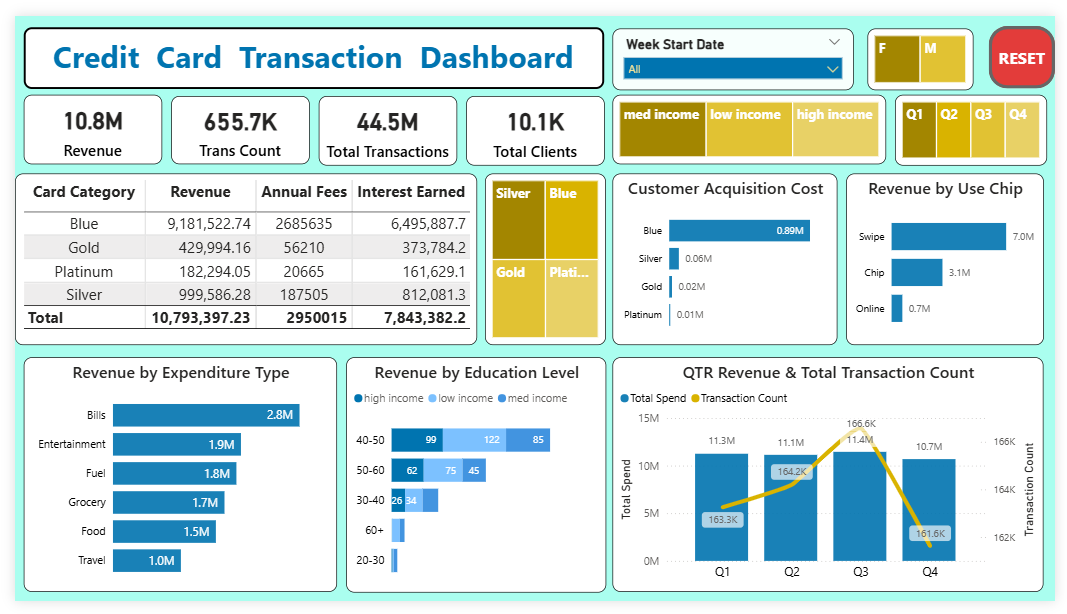

What the dashboard file says about the page in this screenshot:
{"tool":"powerbi","page":{"name":"CC Transacations","canvas":[1280,720],"ordinal":0},"visuals":[{"type":"textbox","box":[11.4,14.3,714.3,75.7],"z":0},{"type":"lineStackedColumnComboChart","title":"QTR Revenue & Total Transaction Count","fields":{"Category":["credit_card.Qtr"],"Y":["Sum(credit_card.Total_Trans_Amt)"],"Y2":["Sum(credit_card.Total_Trans_Vol)"]},"box":[735.7,420,530,288.6],"z":1000},{"type":"clusteredBarChart","title":"Revenue by Expenditure Type","fields":{"Y":["Sum(credit_card.rev)"],"Category":["credit_card.Exp Type"]},"box":[11.4,420,385.7,288.6],"z":2000},{"type":"barChart","title":"Revenue by Education Level","fields":{"Category":["customer.Age_Group"],"Y":["Sum(credit_card.Delinquent_Acc)"],"Series":["customer.Income_Group"]},"box":[407.7,420,320,289.2],"z":3000},{"type":"clusteredBarChart","title":"Revenue by Use Chip","fields":{"Y":["Sum(credit_card.rev)"],"Category":["credit_card.Use Chip"]},"box":[1022.9,194.3,242.9,211.4],"z":4000},{"type":"card","fields":{"Values":["Count(credit_card.Client_Num)"]},"box":[555.7,98.6,170,85.7],"z":5000},{"type":"card","fields":{"Values":["Sum(credit_card.Total_Trans_Vol)"]},"box":[192.9,98.6,170,84.3],"z":6000},{"type":"card","fields":{"Values":["Sum(credit_card.Total_Trans_Amt)"]},"box":[374.3,98.6,170,85.7],"z":7000},{"type":"card","fields":{"Values":["Sum(credit_card.rev)"]},"box":[11.4,97.1,170,85.7],"z":8000},{"type":"tableEx","fields":{"Values":["credit_card.Card_Category","Sum(credit_card.rev)","Sum(credit_card.Annual_Fees)","Sum(credit_card.Interest_Earned)"]},"box":[0,193.8,569.1,211.1],"z":9000},{"type":"treemap","fields":{"Group":["credit_card.Qtr"],"Values":["Count(credit_card.Qtr)"]},"box":[1082.9,97.1,187.1,87.1],"z":10000},{"type":"treemap","fields":{"Group":["customer.Gender"],"Values":["Avg(credit_card.Client_Num)"]},"box":[1048.6,15.7,130,75.7],"z":11000},{"type":"barChart","title":"Customer Acquisition Cost","fields":{"Y":["Sum(credit_card.Customer_Acq_Cost)"],"Category":["credit_card.Card_Category"]},"box":[735.7,194.3,277.1,211.4],"z":12000},{"type":"treemap","fields":{"Values":["Avg(credit_card.Client_Num)"],"Group":["credit_card.Card_Category"]},"box":[578.6,194.3,148.6,211.4],"z":13000},{"type":"slicer","fields":{"Values":["credit_card.Week_Start_Date"]},"box":[735.7,15.7,297.1,75.7],"z":14000},{"type":"treemap","fields":{"Values":["Avg(credit_card.Client_Num)"],"Group":["customer.Income_Group"]},"box":[735.7,97.1,337.1,85.7],"z":15000},{"type":"actionButton","box":[1198.5,12.3,81.5,76.9],"z":16000}]}

Visuals, with their boxes in screenshot pixels (x1, y1, x2, y2), scaled from the page's 1280x720 canvas onto the 1067x614 screenshot:
textbox: region(10, 12, 605, 77)
"QTR Revenue & Total Transaction Count" lineStackedColumnComboChart: region(613, 358, 1055, 604)
"Revenue by Expenditure Type" clusteredBarChart: region(10, 358, 331, 604)
"Revenue by Education Level" barChart: region(340, 358, 607, 605)
"Revenue by Use Chip" clusteredBarChart: region(853, 166, 1055, 346)
card - Count(credit_card.Client_Num): region(463, 84, 605, 157)
card - Sum(credit_card.Total_Trans_Vol): region(161, 84, 303, 156)
card - Sum(credit_card.Total_Trans_Amt): region(312, 84, 454, 157)
card - Sum(credit_card.rev): region(10, 83, 151, 156)
tableEx - credit_card.Card_Category x Sum(credit_card.rev): region(0, 165, 474, 345)
treemap - credit_card.Qtr x Count(credit_card.Qtr): region(903, 83, 1059, 157)
treemap - customer.Gender x Avg(credit_card.Client_Num): region(874, 13, 982, 78)
"Customer Acquisition Cost" barChart: region(613, 166, 844, 346)
treemap - Avg(credit_card.Client_Num) x credit_card.Card_Category: region(482, 166, 606, 346)
slicer - credit_card.Week_Start_Date: region(613, 13, 861, 78)
treemap - Avg(credit_card.Client_Num) x customer.Income_Group: region(613, 83, 894, 156)
actionButton: region(999, 10, 1066, 76)
